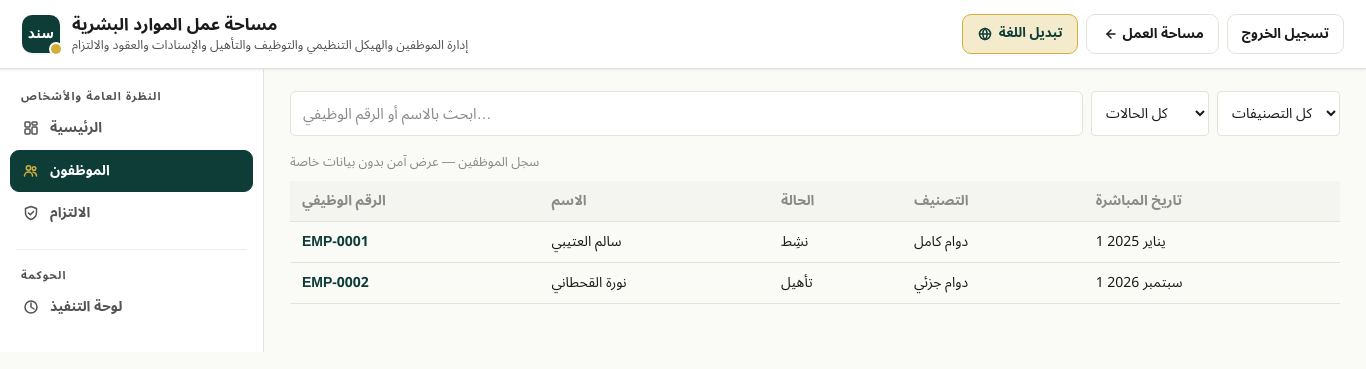
Employee Directory › shows the Arabic empty state when no rows match
expect the text "سالم العتيبي" is shown: met, box [539,221,769,262]
Type "لا-يوجد-زايد" into the search field named "بحث في السجل". click: coordinates (686, 114)
box: [290,91,1083,136]
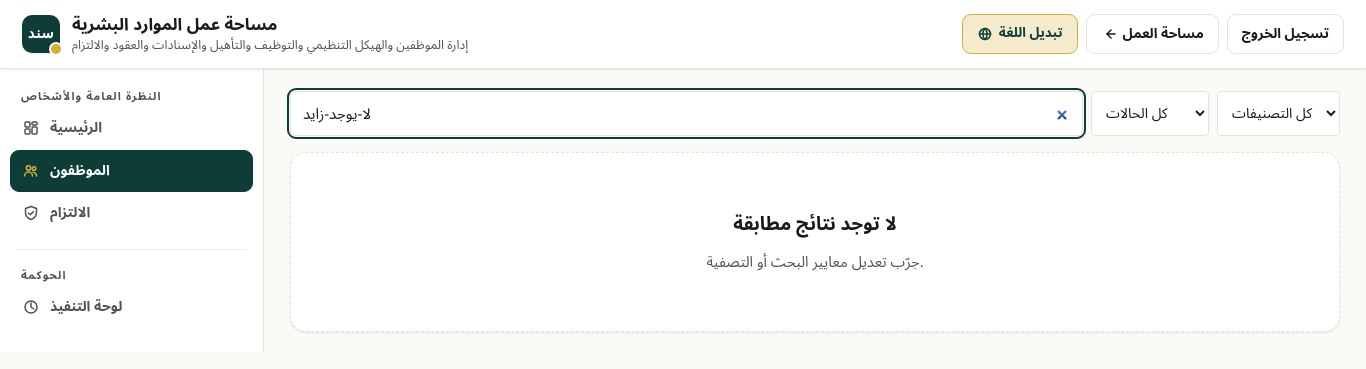
expect the text "لا توجد نتائج مطابقة" is shown: met, box [733,209,897,239]
